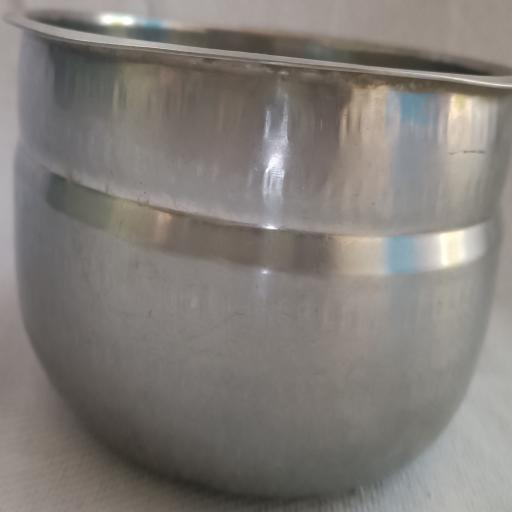vessel: (7, 11, 512, 497)
